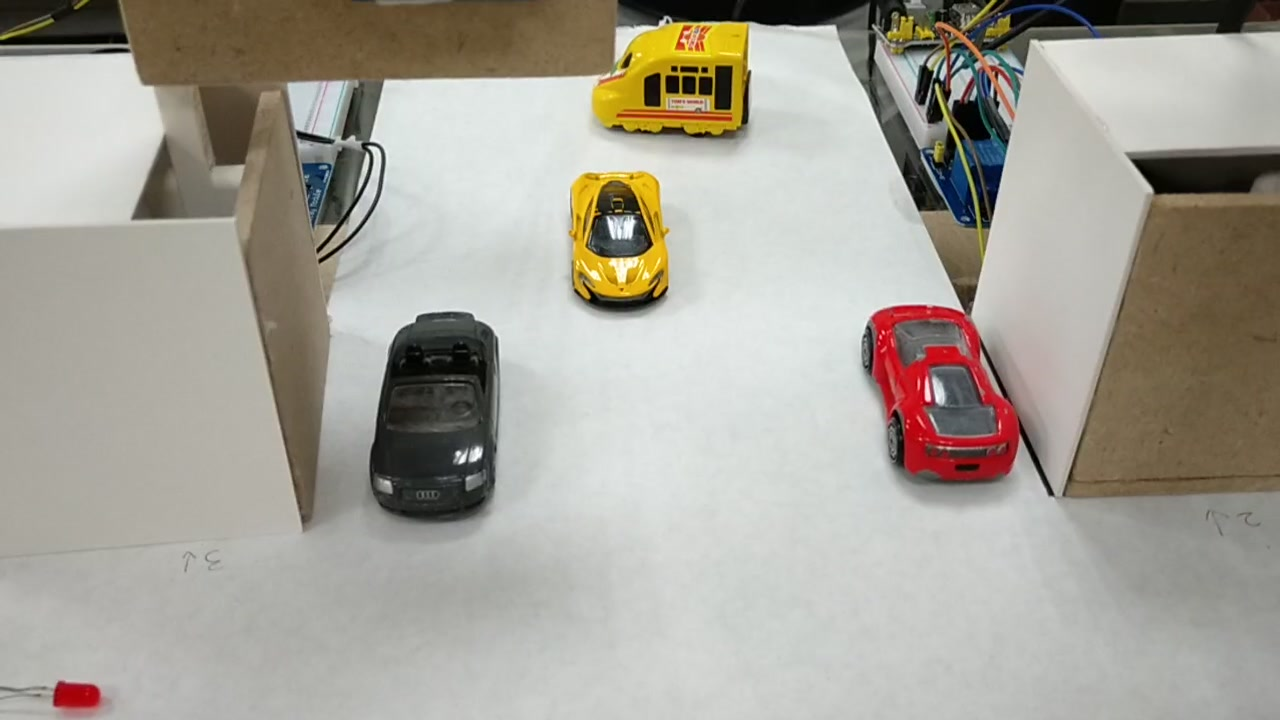car: (858, 304, 1019, 488), (371, 306, 487, 526), (575, 160, 658, 300)
